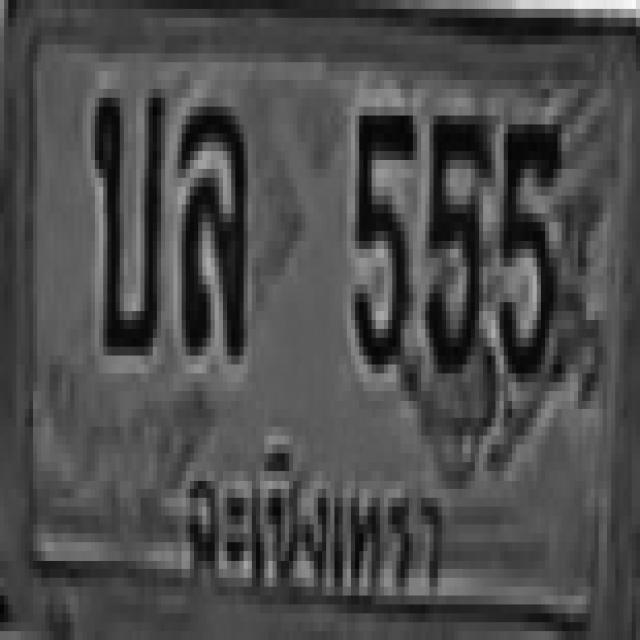35BorBaiMai: (91, 80, 161, 347)
45LorLing: (178, 98, 244, 346)
5: (496, 116, 558, 382), (351, 106, 413, 364), (423, 106, 485, 364)
Chachoengsao: (182, 426, 450, 620)
